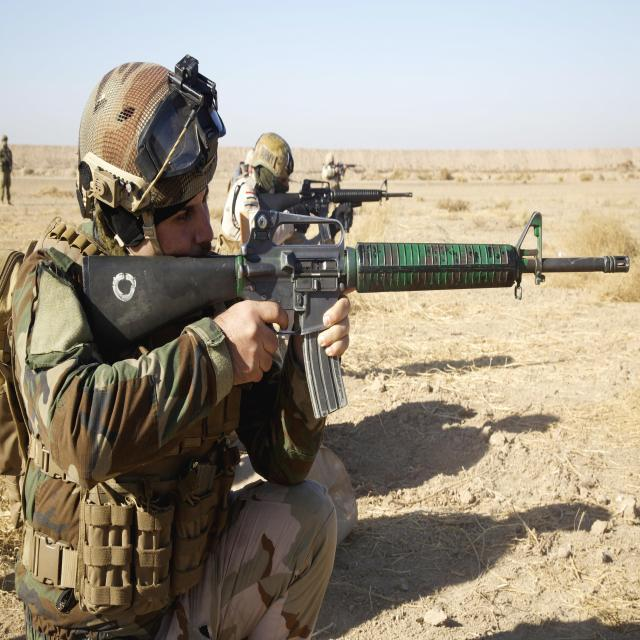m16: (72, 200, 636, 520)
